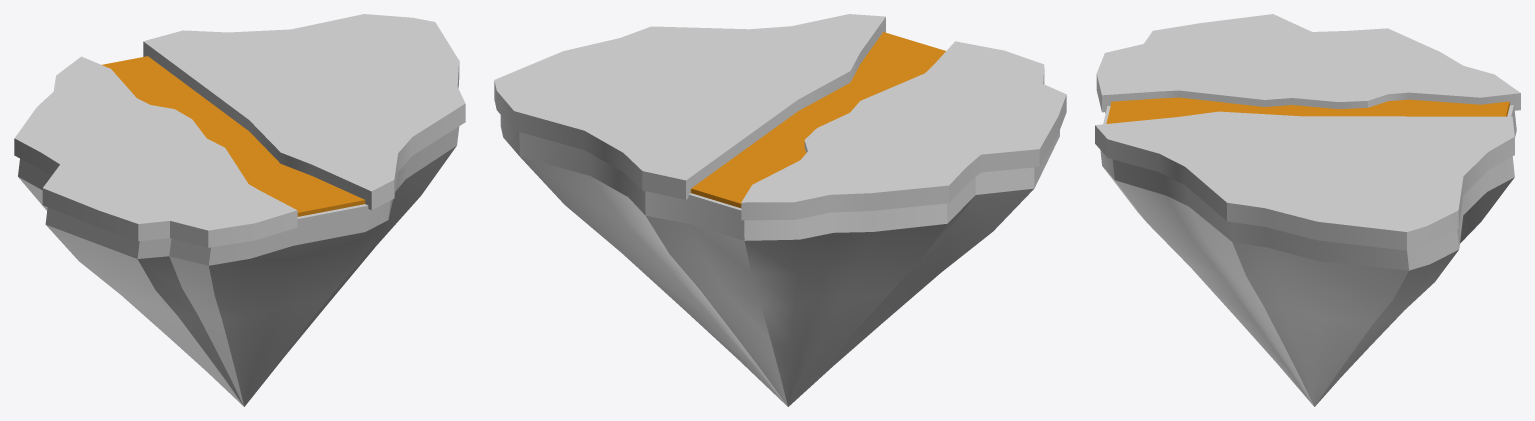
Rendered from floatingIsland2.fbx.
3 renders of one model, left to right at view 1: azimuth 30°, elevation 25°; view 2: azimuth 150°, elevation 25°; view 3: azimuth 270°, elevation 25°, orthographic. The views are drawn at different scales.
Parts seen in each view (by area): view 1: Vert.001, Vert, Vert.002, Vert.004, Vert.003; view 2: Vert.001, Vert.002, Vert, Vert.003, Vert.004; view 3: Vert.001, Vert, Vert.002, Vert.003, Vert.004.
Boxes of the visible parts, x1,y1,x2,y2 form: Vert.001: [143, 14, 465, 210]; Vert: [14, 56, 297, 247]; Vert.002: [18, 146, 456, 406]; Vert.004: [102, 56, 365, 216]; Vert.003: [18, 126, 459, 265]; Vert.001: [494, 14, 885, 199]; Vert.002: [520, 157, 1033, 406]; Vert: [741, 41, 1066, 220]; Vert.003: [500, 115, 1059, 240]; Vert.004: [690, 32, 945, 208]; Vert.001: [1095, 111, 1514, 250]; Vert: [1096, 14, 1520, 112]; Vert.002: [1104, 168, 1514, 406]; Vert.003: [1100, 105, 1516, 270]; Vert.004: [1106, 97, 1509, 123].
Size of the model in its own units: 1210 by 735 by 980.
